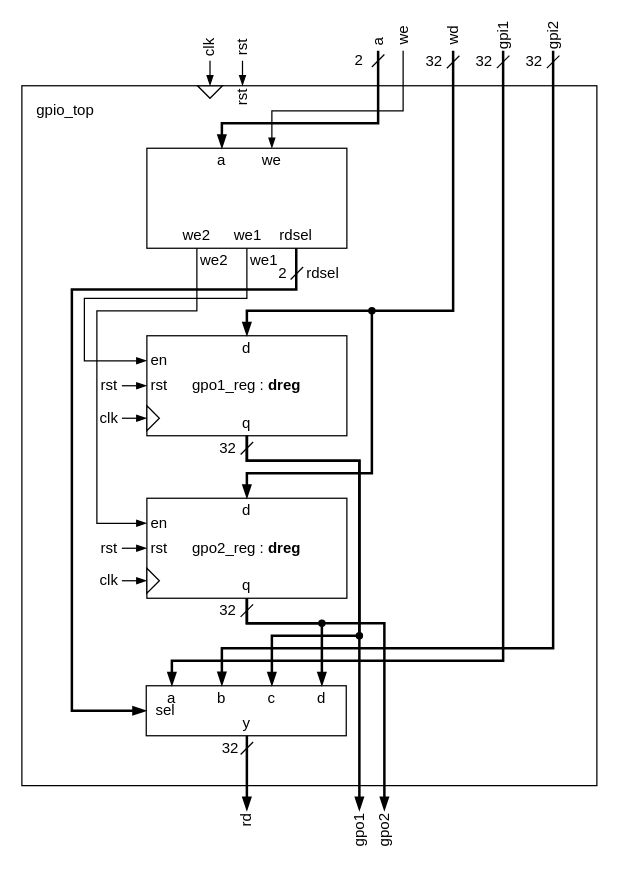
The diagram is 619 pixels wide and 871 high, and some of its shapes have lost their labels. The box of each missing label's shape, as (x1, y1, x2, y2) in pixels:
gpio_ad : gpio_ad: (146, 147, 347, 248)
rd_mux : mux4: (145, 684, 346, 736)
